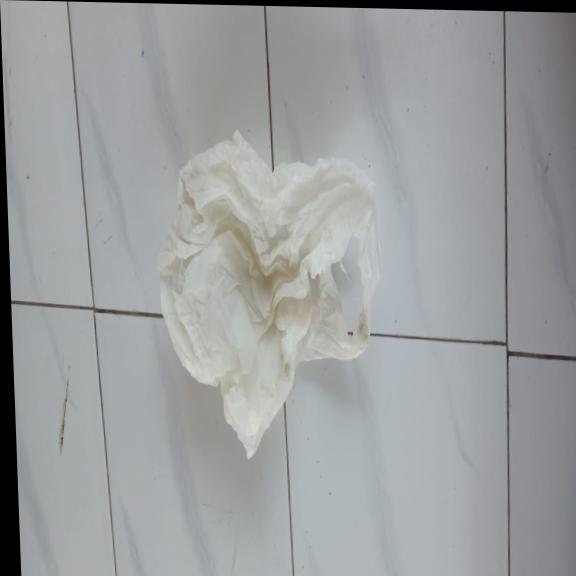Plastik: (153, 126, 389, 464)
